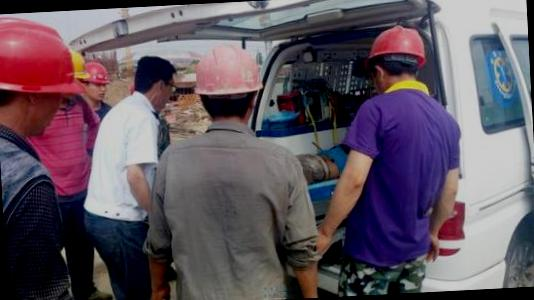no_helmet: (128, 53, 186, 111)
